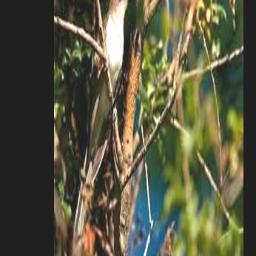Cuckoo: (73, 0, 134, 241)
